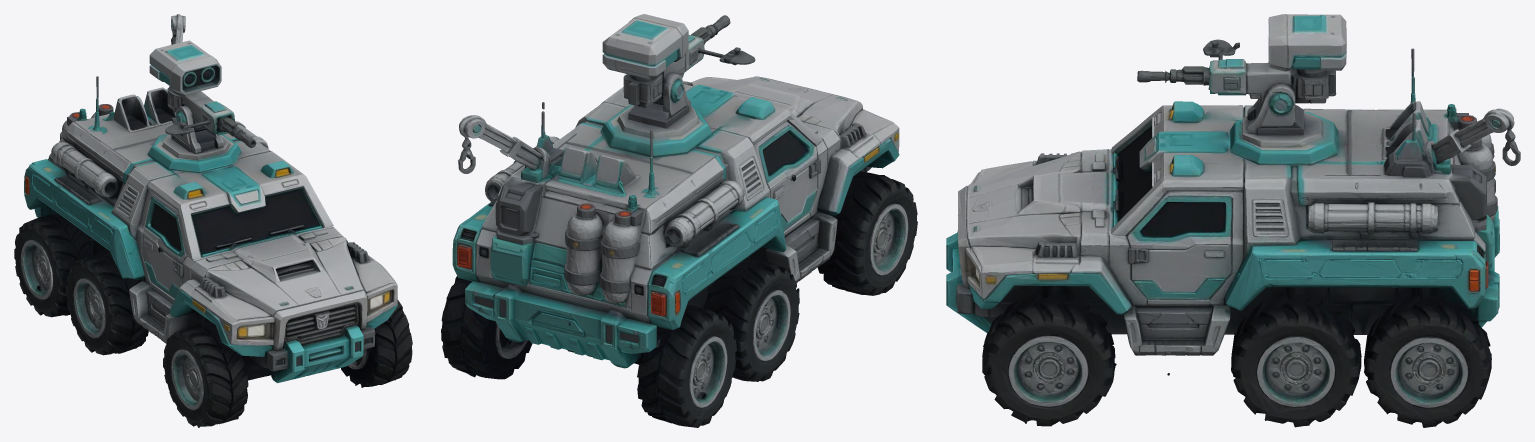
Rendered from fortress-vehicle.glb.
The picture shows the model from 3 angles, left to right: view 1: azimuth 30°, elevation 25°; view 2: azimuth 150°, elevation 25°; view 3: azimuth 270°, elevation 25°; orthographic projection. The views are drawn at different scales.
Parts seen in each view (by area): view 1: geometry_0; view 2: geometry_0; view 3: geometry_0.
Boxes of the visible parts, box(x1,y1,x2,y2) form: geometry_0: box(14, 14, 412, 427); geometry_0: box(441, 14, 917, 427); geometry_0: box(946, 14, 1520, 427).
Size of the model in its own units: 0.5163 by 0.6666 by 1.
Materials: 1 (1 with a texture image).
